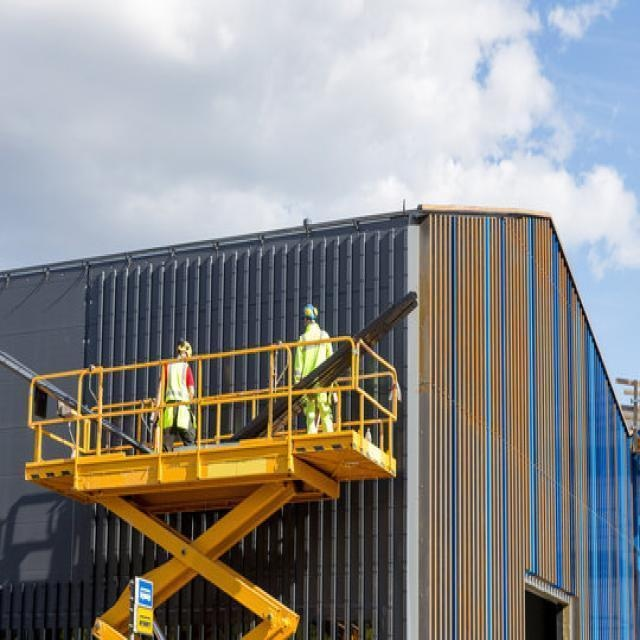Arnes_seguridad: (165, 394, 192, 432)
